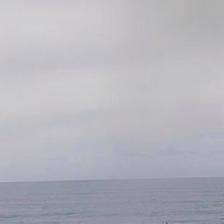surfer: (164, 221, 168, 223)
